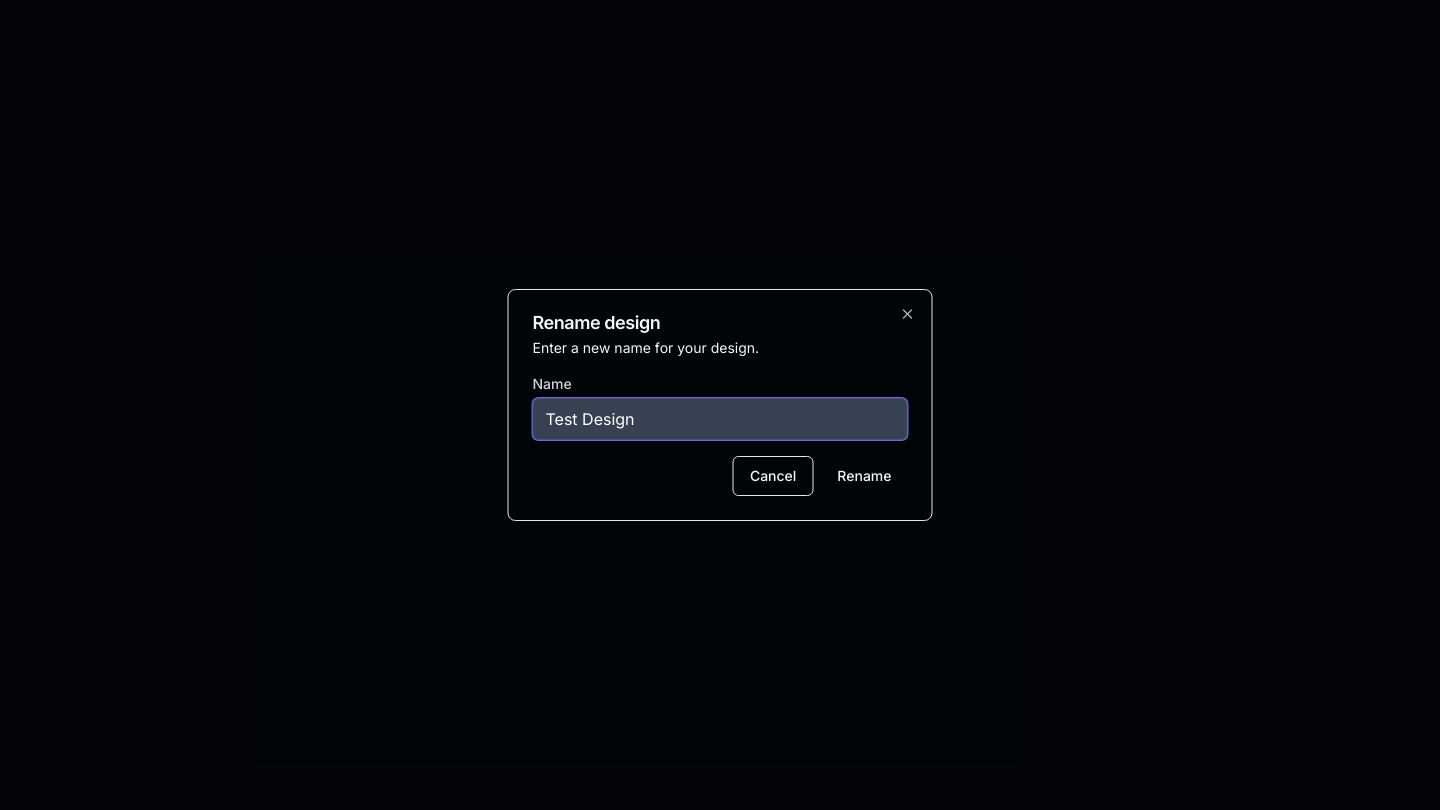
RenameModal › disables submit button when name is empty
Clear the field with test id "rename-input" at (720, 419), box [532, 398, 908, 440]
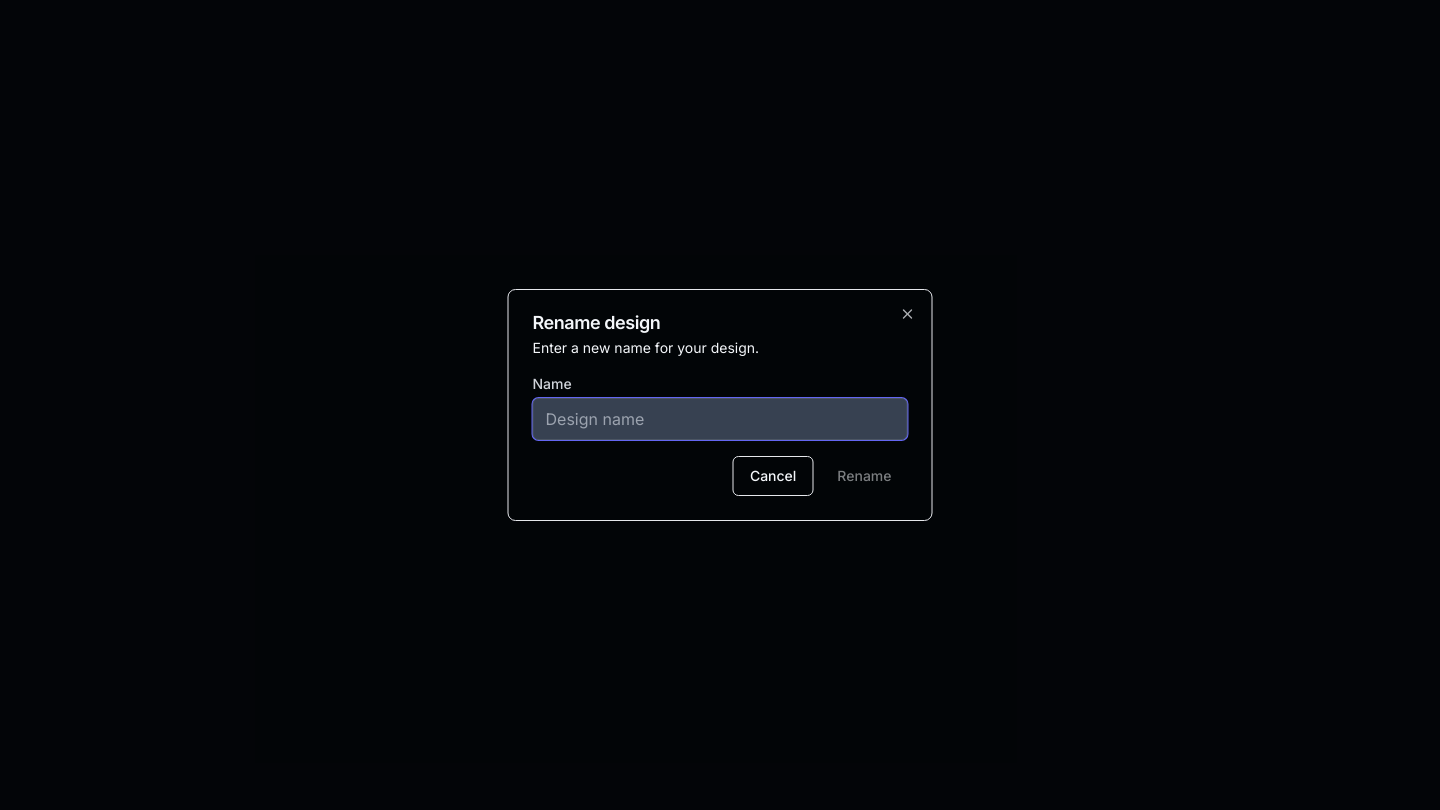
Expected: the button "Rename" is disabled, [821, 456, 908, 496]
